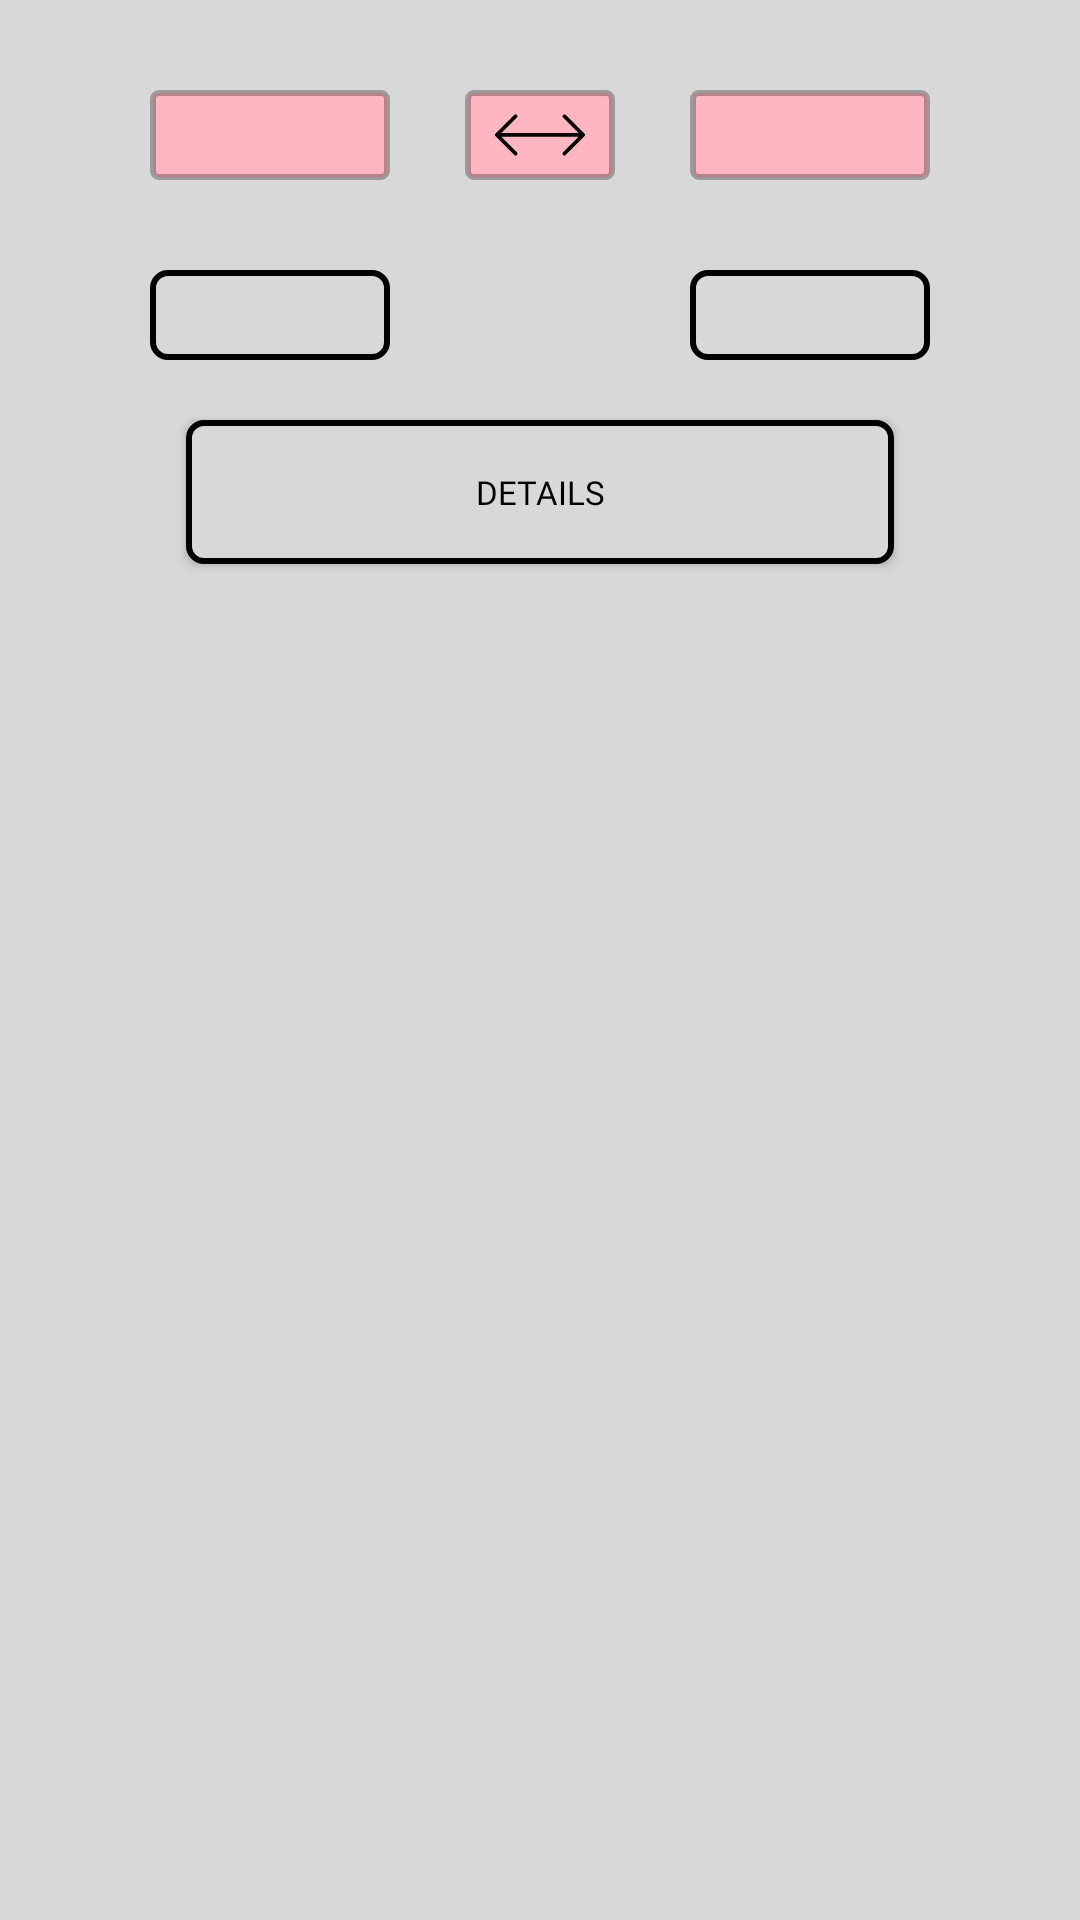

Icon bounding boxes for this 1080×1920 phone screenshot, format (x1, y1, x2, y2):
change: (465, 90, 615, 180)
